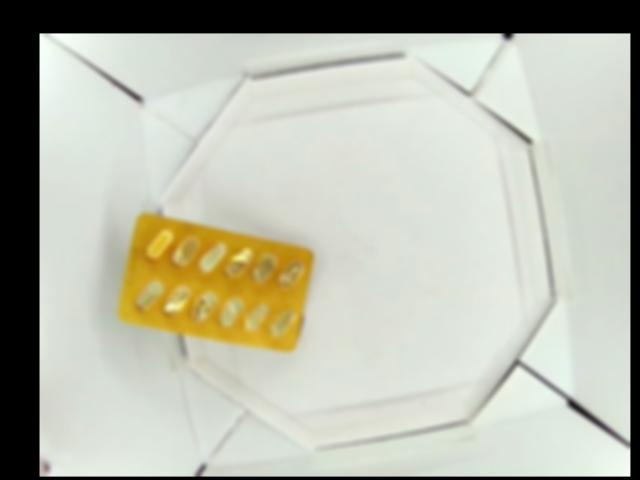Medicine: (113, 211, 314, 352)
